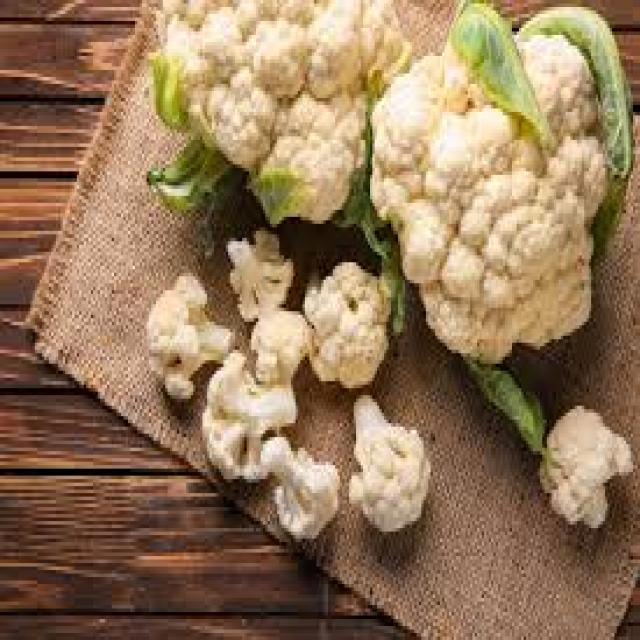biodegradable: (358, 0, 631, 357), (144, 0, 410, 252), (300, 249, 391, 389), (535, 399, 631, 528), (200, 346, 293, 479), (347, 388, 428, 532), (142, 269, 230, 399), (258, 430, 335, 539), (468, 353, 542, 455), (223, 224, 291, 322), (249, 308, 303, 378)
